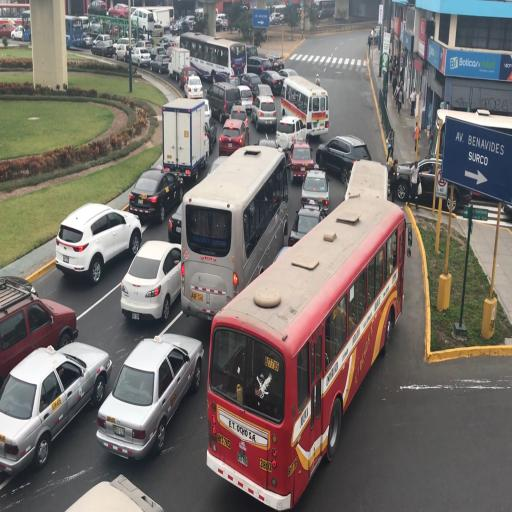auto: (2, 342, 112, 480), (97, 332, 202, 458), (1, 275, 76, 403), (55, 197, 140, 279), (119, 238, 182, 320), (392, 156, 478, 214), (181, 238, 232, 316), (61, 473, 164, 511), (128, 166, 182, 224), (314, 134, 368, 185), (53, 226, 88, 275), (288, 204, 326, 248), (300, 166, 330, 212), (276, 114, 306, 156), (289, 139, 316, 184), (219, 118, 249, 158), (250, 86, 276, 130), (238, 71, 265, 101), (229, 100, 253, 132), (233, 82, 254, 116), (260, 70, 285, 96), (113, 37, 138, 61), (246, 55, 272, 78), (91, 33, 115, 57), (150, 50, 172, 74), (180, 66, 200, 92), (130, 45, 152, 68), (276, 68, 298, 87), (171, 16, 193, 34), (265, 54, 285, 72), (87, 15, 104, 36), (108, 4, 130, 20), (155, 36, 174, 54), (88, 0, 108, 16), (118, 23, 136, 40), (202, 98, 212, 127), (258, 138, 280, 151), (10, 25, 24, 41), (216, 13, 228, 29), (269, 12, 283, 25), (152, 23, 164, 38)
bus: (432, 105, 512, 229), (160, 97, 208, 186), (166, 44, 189, 83), (64, 15, 90, 49)
moto: (208, 162, 394, 496), (278, 73, 328, 141), (180, 33, 236, 83)
